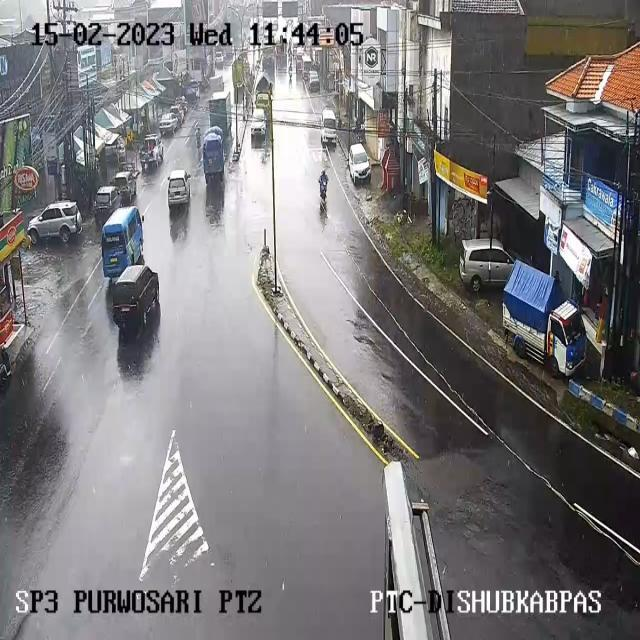Bus: (103, 207, 146, 271), (202, 129, 224, 178)
Car: (112, 270, 166, 332), (458, 239, 514, 294), (28, 200, 82, 243), (93, 186, 122, 225), (111, 170, 139, 205), (348, 143, 370, 184), (167, 170, 192, 206), (140, 134, 164, 170), (320, 108, 338, 144), (250, 110, 268, 141), (158, 112, 180, 135), (183, 82, 200, 103), (170, 105, 186, 125), (306, 70, 320, 92), (301, 55, 312, 76), (223, 48, 234, 62), (214, 51, 224, 66), (296, 49, 304, 66)
Motorbike: (314, 173, 331, 211), (288, 63, 292, 82)
Truck: (504, 262, 590, 380), (208, 93, 230, 147), (256, 74, 274, 118), (235, 56, 251, 97)
